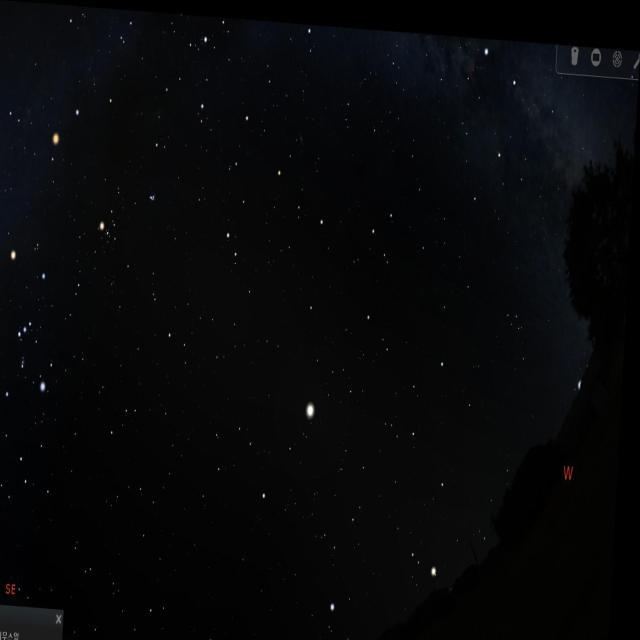cygnus: (469, 30, 594, 211)
orion: (0, 244, 60, 409)
pleiades: (139, 176, 162, 212)
taurus: (89, 184, 161, 278)
